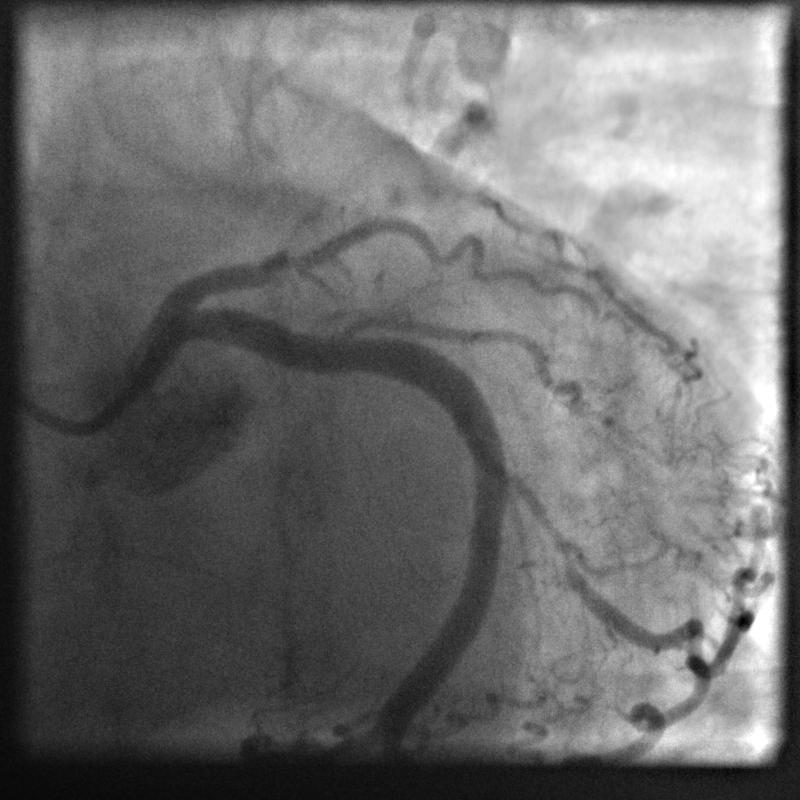Stenosis: (492, 440, 586, 588)
